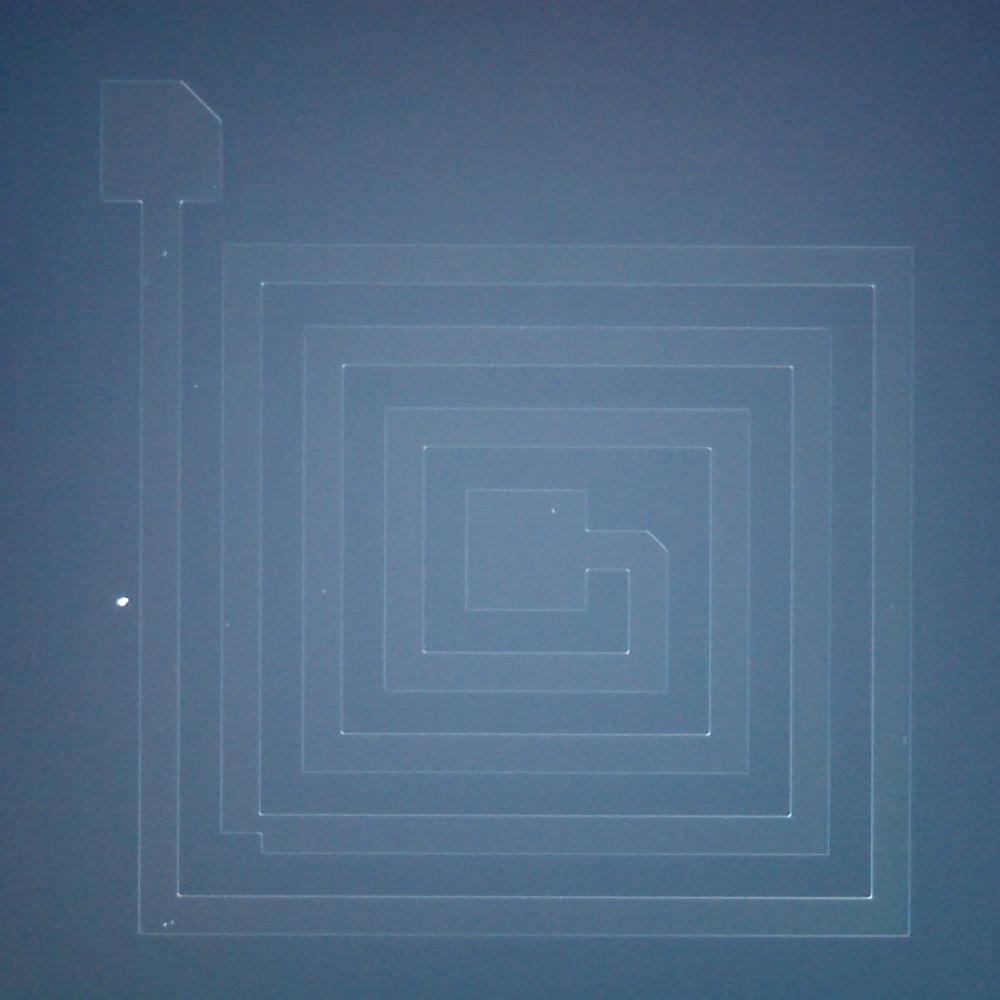dot: (117, 595, 129, 609), (162, 251, 168, 257), (551, 508, 557, 514), (162, 922, 168, 926), (170, 920, 174, 924), (194, 384, 198, 388)
